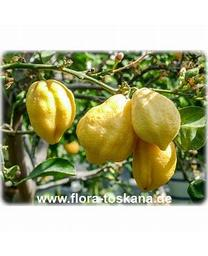lemon: (76, 94, 135, 165), (130, 89, 181, 152), (30, 78, 73, 143)
